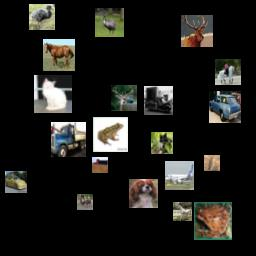airplane: (165, 161, 194, 190)
automobile: (209, 91, 241, 123), (5, 171, 27, 193)
bird: (95, 8, 124, 37), (29, 4, 55, 30), (204, 155, 220, 171)
cat: (34, 75, 72, 113), (151, 132, 173, 154)
deer: (181, 15, 213, 47), (111, 85, 137, 111), (77, 194, 93, 210)
dog: (129, 179, 158, 208)
frog: (194, 202, 232, 240), (93, 117, 128, 152)
truck: (51, 122, 86, 157), (144, 86, 173, 115), (92, 157, 108, 173)
